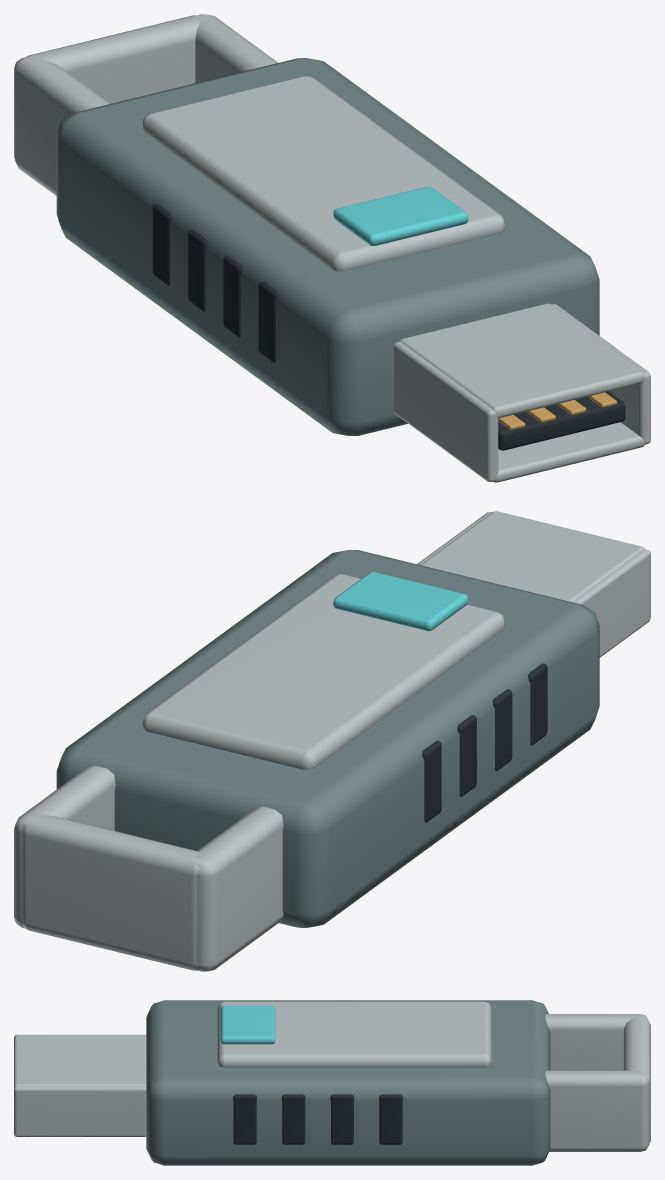
The model's file is HF_ArchiveKey.fbx.
The picture shows the model from 3 angles, top to bottom: view 1: azimuth 30°, elevation 25°; view 2: azimuth 150°, elevation 25°; view 3: azimuth 270°, elevation 25°; orthographic projection. The views are drawn at different scales.
Parts seen in each view (by area): view 1: Chassis.003, Indicators.003; view 2: Chassis.003, Indicators.003; view 3: Chassis.003, Indicators.003.
Boxes of the visible parts, x1,y1,x2,y2 form: Chassis.003: [14, 14, 650, 482]; Indicators.003: [333, 186, 468, 245]; Chassis.003: [14, 511, 650, 971]; Indicators.003: [333, 572, 468, 630]; Chassis.003: [14, 1000, 650, 1165]; Indicators.003: [220, 1005, 275, 1044].
Size of the model in its own units: 7.2 by 3.85 by 20.95.
